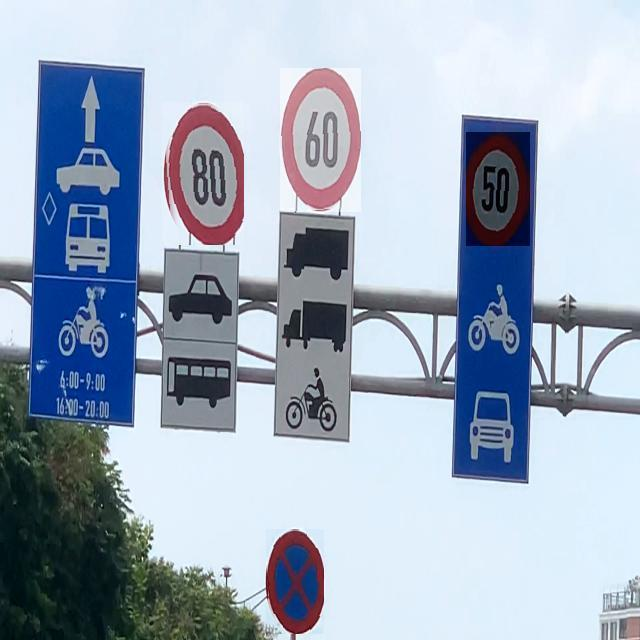P-127: (162, 102, 244, 245), (280, 69, 361, 213), (466, 132, 530, 246)
P-130: (266, 529, 324, 634)
